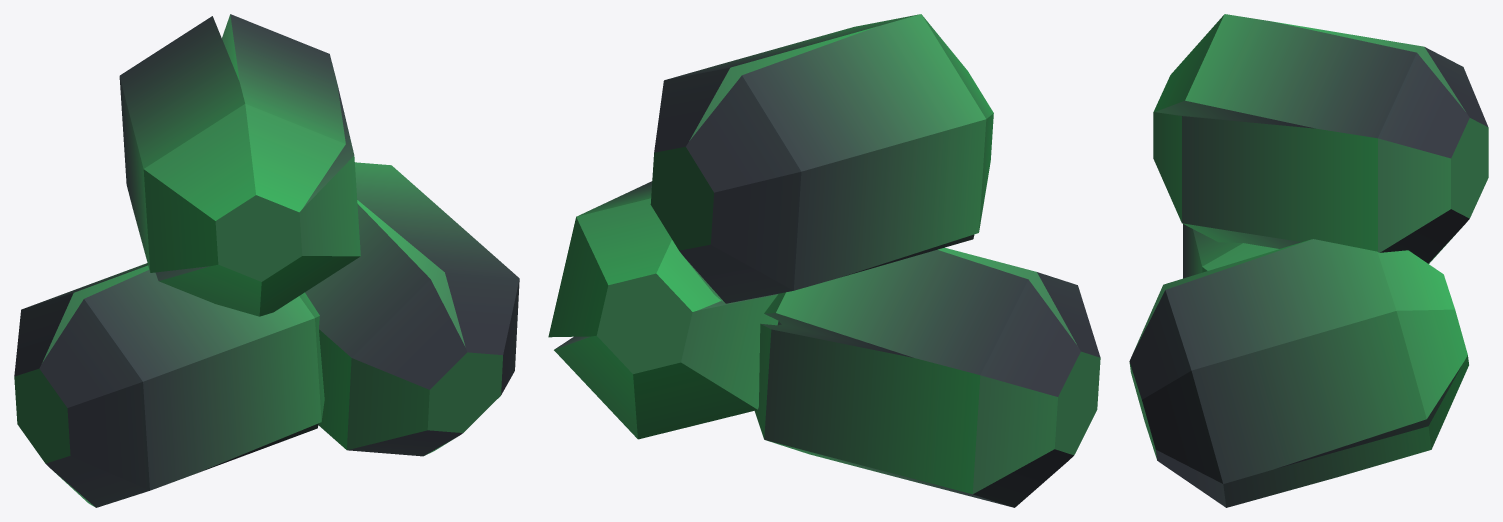
The model's file is Green_stome_revard.fbx.
The picture shows the model from 3 angles, left to right: view 1: azimuth 30°, elevation 25°; view 2: azimuth 150°, elevation 25°; view 3: azimuth 270°, elevation 25°; orthographic projection. The views are drawn at different scales.
Visible parts, largest first — view 1: Cylinder.022; view 2: Cylinder.022; view 3: Cylinder.022.
Boxes of the visible parts, <box> form: Cylinder.022: <box>14,14,519,507</box>; Cylinder.022: <box>548,14,1100,507</box>; Cylinder.022: <box>1129,14,1488,507</box>.
Size of the model in its own units: 0.901 by 0.618 by 0.7653.
